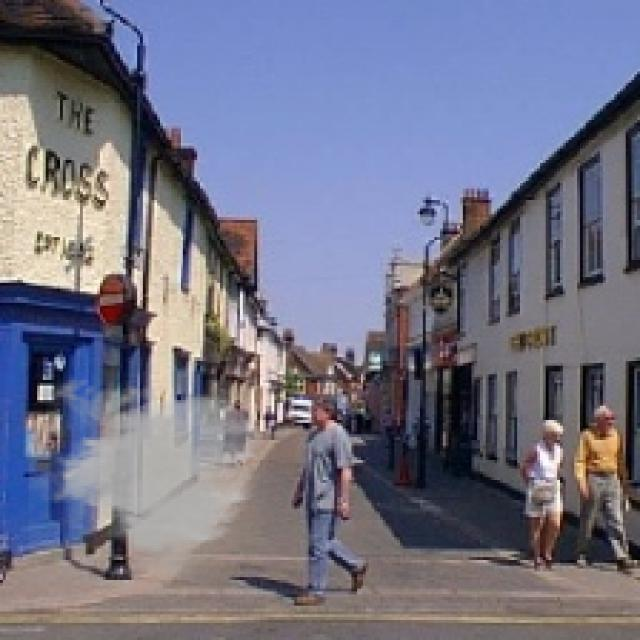Smoke: (28, 371, 268, 583)
